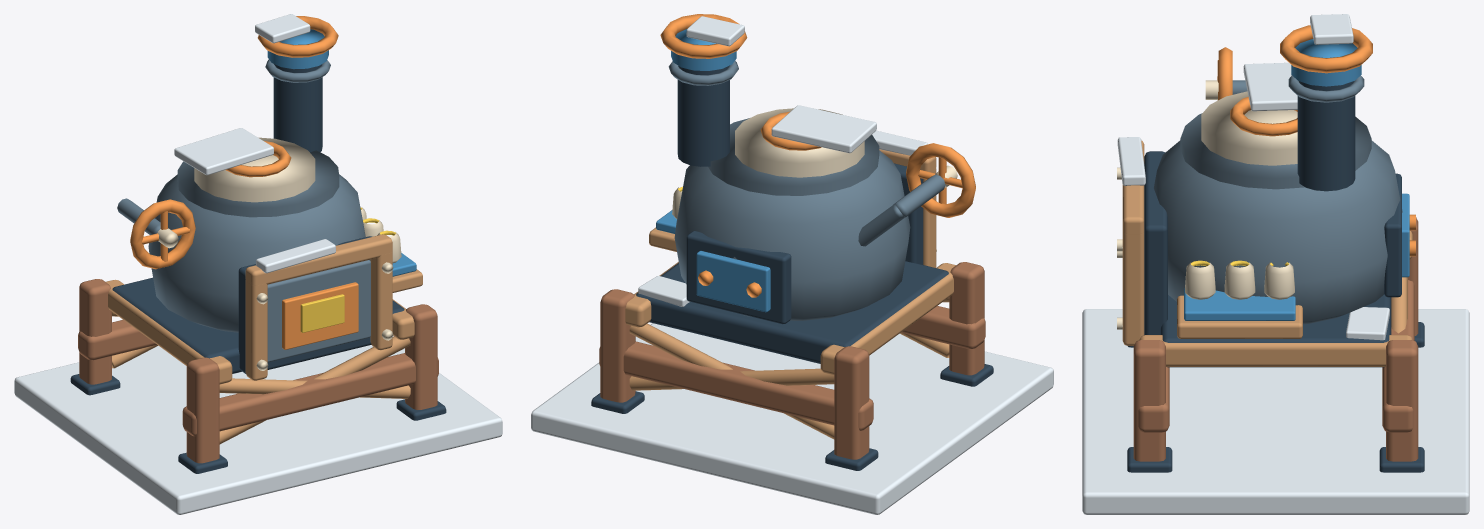
File: cooker_processor.glb
The picture shows the model from 3 angles, left to right: view 1: azimuth 30°, elevation 25°; view 2: azimuth 150°, elevation 25°; view 3: azimuth 270°, elevation 25°; orthographic projection. The views are drawn at different scales.
Visible parts, largest first — view 1: cooker_processor; view 2: cooker_processor; view 3: cooker_processor.
Boxes of the visible parts, left/top/right/bottom form: cooker_processor: left=14, top=14, right=502, bottom=514; cooker_processor: left=531, top=14, right=1053, bottom=514; cooker_processor: left=1082, top=14, right=1469, bottom=514.
Bounding box in the file's own units: 2.45 × 2.61 × 2.15.
